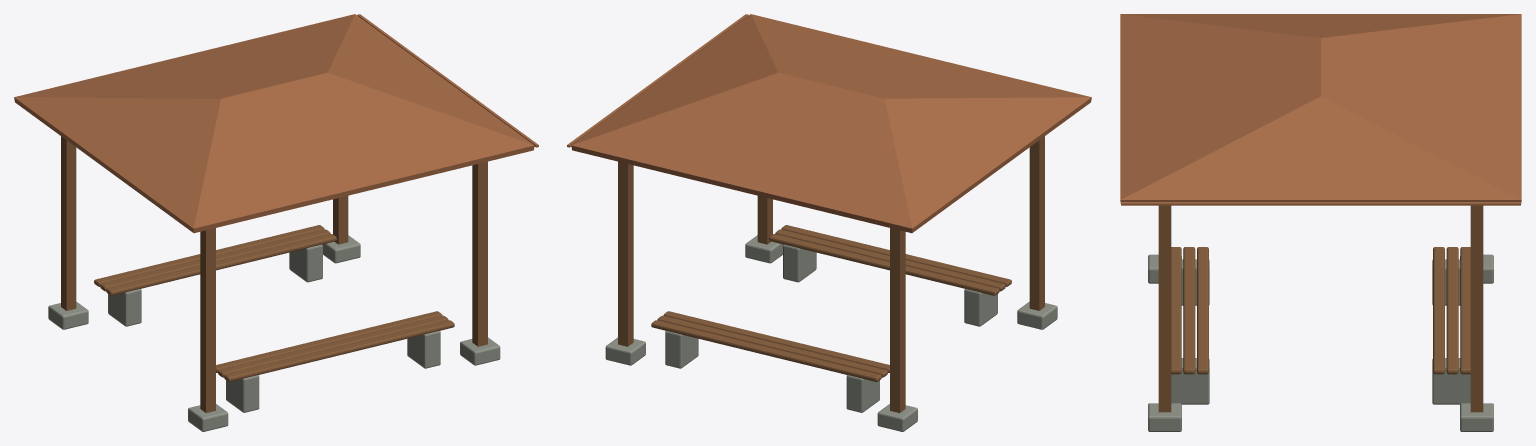
The model's file is pavilion.glb.
The picture shows the model from 3 angles, left to right: view 1: azimuth 30°, elevation 25°; view 2: azimuth 150°, elevation 25°; view 3: azimuth 270°, elevation 25°; orthographic projection. The views are drawn at different scales.
Visible parts, largest first — view 1: Approved C1A pavilion / material batch; view 2: Approved C1A pavilion / material batch; view 3: Approved C1A pavilion / material batch.
Part boxes in pixels (x1,y1,x2,y2): Approved C1A pavilion / material batch: [14, 14, 538, 431]; Approved C1A pavilion / material batch: [567, 14, 1091, 431]; Approved C1A pavilion / material batch: [1120, 14, 1521, 431].
Bounding box in the file's own units: 4.58 × 3.21 × 4.12.
